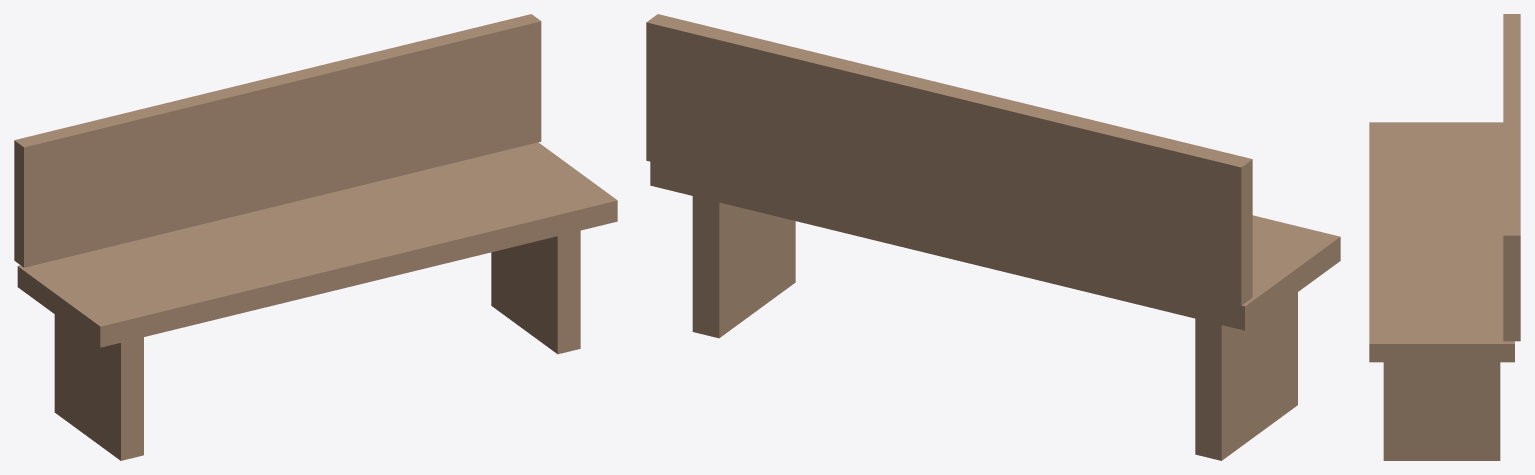
Rendered from bench.glb.
3 renders of one model, left to right at view 1: azimuth 30°, elevation 25°; view 2: azimuth 150°, elevation 25°; view 3: azimuth 270°, elevation 25°, orthographic. The views are drawn at different scales.
Visible parts, largest first — view 1: bench; view 2: bench; view 3: bench.
Part boxes in pixels (x1,y1,x2,y2): bench: (14, 14, 617, 460); bench: (646, 14, 1340, 460); bench: (1369, 14, 1520, 460).
Size of the model in its own units: 1.8 by 0.9 by 0.52.
